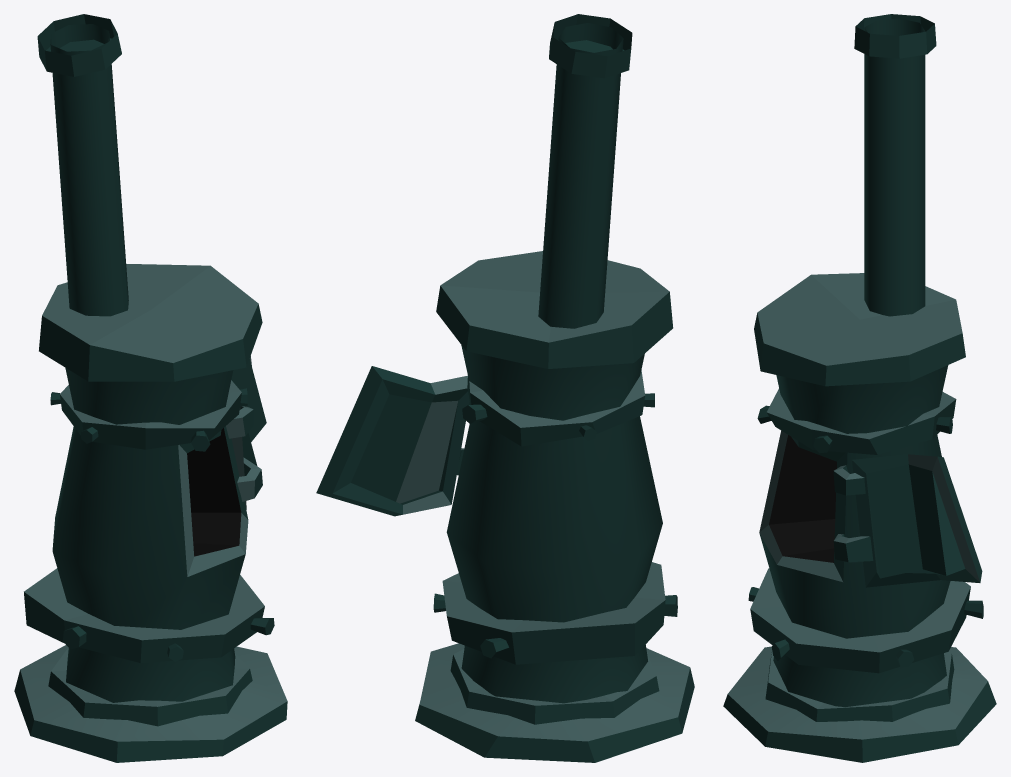
The model's file is fornalha.fbx.
The picture shows the model from 3 angles, left to right: view 1: azimuth 30°, elevation 25°; view 2: azimuth 150°, elevation 25°; view 3: azimuth 270°, elevation 25°; orthographic projection. The views are drawn at different scales.
Visible parts, largest first — view 1: fornalha; view 2: fornalha; view 3: fornalha.
Part boxes in pixels (x1=…): fornalha: x1=14, y1=14, x2=287, y2=762; fornalha: x1=316, y1=14, x2=694, y2=762; fornalha: x1=723, y1=14, x2=996, y2=762.
Bounding box in the file's own units: 193 × 431 × 162.
